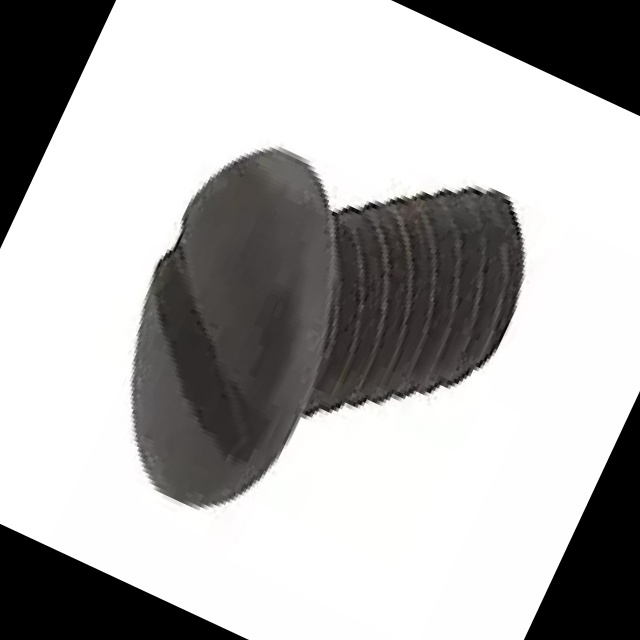duz: (68, 121, 401, 535)
